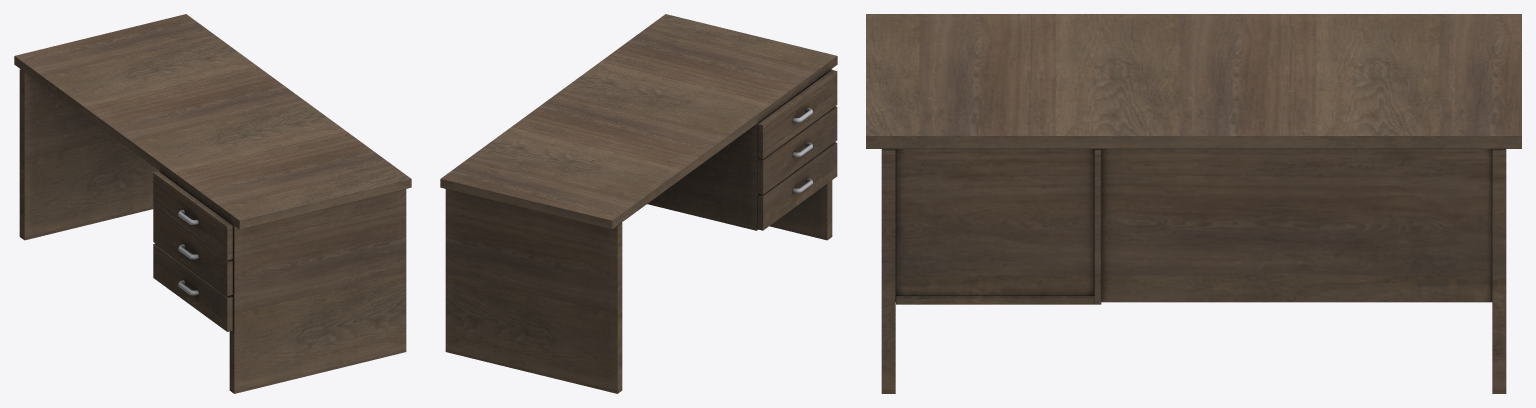
The model's file is table 1.fbx.
The picture shows the model from 3 angles, left to right: view 1: azimuth 30°, elevation 25°; view 2: azimuth 150°, elevation 25°; view 3: azimuth 270°, elevation 25°; orthographic projection. The views are drawn at different scales.
Visible parts, largest first — view 1: polySurface23_DeskFINAL_0, polySurface18_DeskFINAL_0; view 2: polySurface23_DeskFINAL_0, polySurface18_DeskFINAL_0; view 3: polySurface23_DeskFINAL_0.
Part boxes in pixels (x1=…): polySurface23_DeskFINAL_0: x1=14, y1=14, x2=411, y2=393; polySurface18_DeskFINAL_0: x1=153, y1=171, x2=232, y2=260; polySurface23_DeskFINAL_0: x1=440, y1=14, x2=837, y2=393; polySurface18_DeskFINAL_0: x1=757, y1=70, x2=837, y2=158; polySurface23_DeskFINAL_0: x1=866, y1=14, x2=1521, y2=393.
Bounding box in the file's own units: 28336 × 25968 × 59845.
